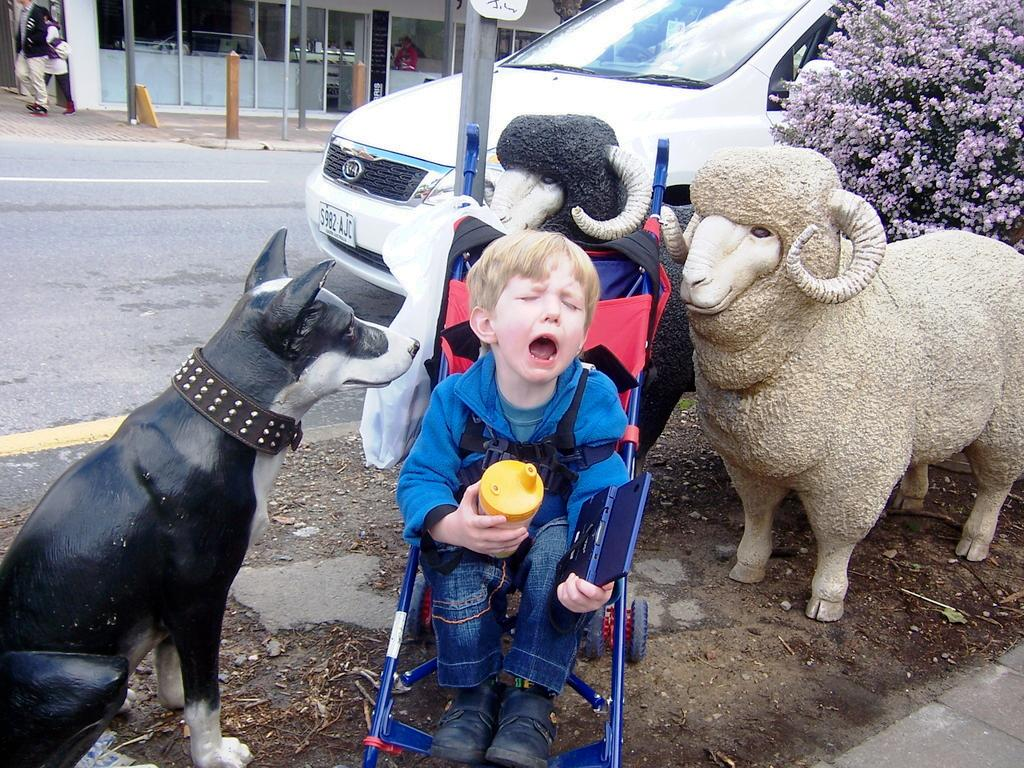Sheep: (670, 162, 1024, 612), (490, 114, 692, 234)
